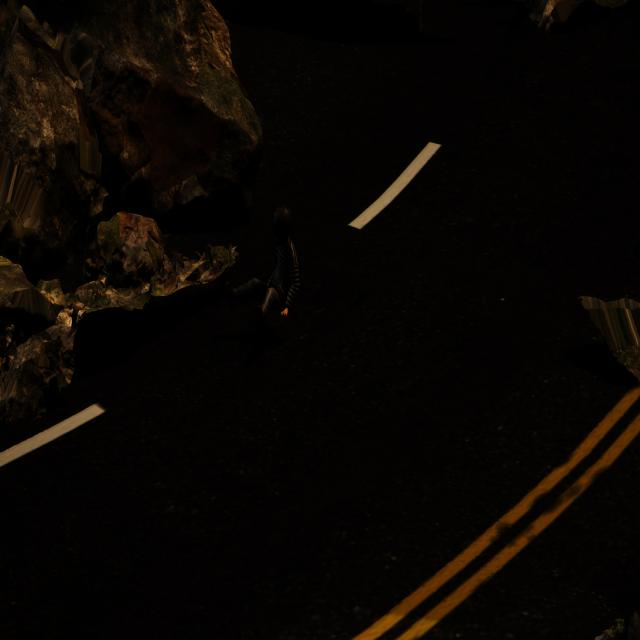Human: (224, 198, 306, 333)
